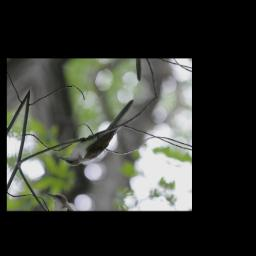Cuckoo: (57, 82, 137, 180)
